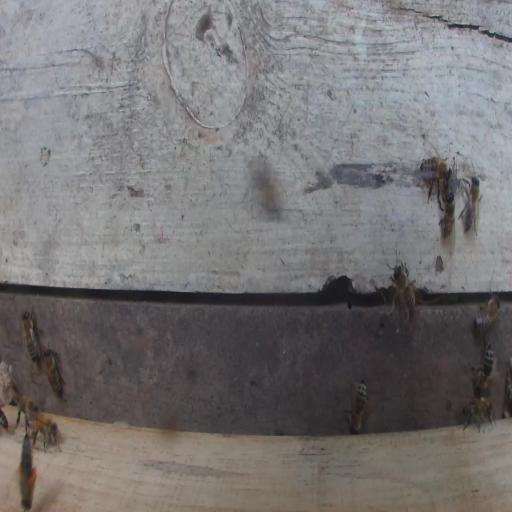nonpollenbee: (384, 246, 422, 323), (418, 145, 453, 204), (458, 159, 483, 236), (26, 411, 62, 453), (343, 378, 368, 434), (471, 338, 494, 393), (472, 292, 501, 335), (461, 395, 493, 433), (438, 191, 456, 255), (21, 308, 41, 364), (42, 347, 64, 396), (14, 395, 40, 430), (0, 408, 8, 430)
pollenbee: (18, 432, 38, 512)
